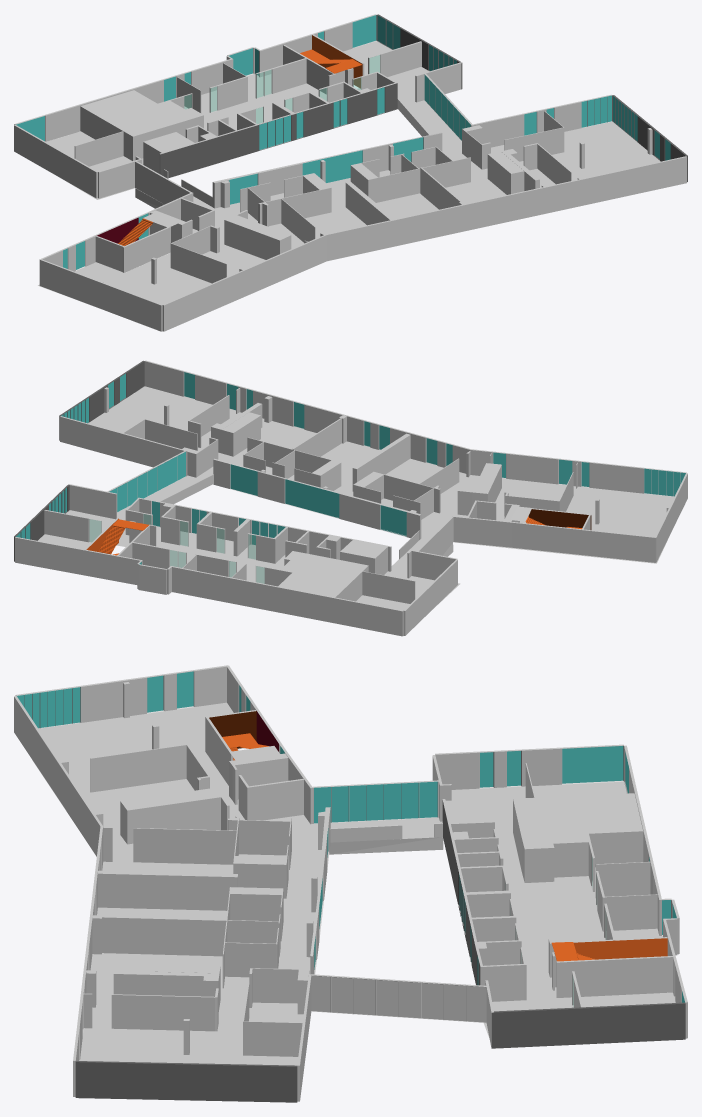
File: 2ndFloor.FBX
The picture shows the model from 3 angles, top to bottom: view 1: azimuth 30°, elevation 25°; view 2: azimuth 150°, elevation 25°; view 3: azimuth 270°, elevation 25°; orthographic projection. The views are drawn at different scales.
Visible parts, largest first — view 1: 2ndFloor, Object285, Object315, Object287, Object317, entranceWall001, Object319, Object329, Object311, Object327, Object337, Object263 (+33 smaller); view 2: 2ndFloor, Object285, Object315, Object329, entranceWall001, Object321, Object317, Object337, Object287, Object311, Object313, Object343 (+29 smaller); view 3: 2ndFloor, Object285, Object287, Object313, Object339, Object319, Object327, Object343, Object257, Object323, Object445, Object307 (+30 smaller).
Boxes of the visible parts, bbox=[...] form: 2ndFloor: bbox=[38, 41, 660, 331]; Object285: bbox=[143, 71, 397, 178]; Object315: bbox=[326, 156, 686, 260]; Object287: bbox=[80, 90, 203, 160]; Object317: bbox=[162, 234, 326, 331]; entranceWall001: bbox=[212, 132, 442, 208]; Object319: bbox=[39, 259, 162, 331]; Object329: bbox=[14, 58, 233, 141]; Object311: bbox=[470, 94, 612, 147]; Object327: bbox=[14, 125, 97, 198]; Object337: bbox=[259, 14, 376, 77]; Object263: bbox=[369, 157, 470, 202]; 2ndFloor: bbox=[38, 386, 674, 610]; Object285: bbox=[125, 497, 391, 575]; Object315: bbox=[144, 360, 470, 473]; Object329: bbox=[170, 566, 403, 636]; entranceWall001: bbox=[213, 458, 421, 539]; Object321: bbox=[452, 516, 655, 562]; Object317: bbox=[470, 449, 686, 496]; Object337: bbox=[15, 537, 142, 584]; Object287: bbox=[278, 551, 368, 601]; Object311: bbox=[60, 416, 187, 476]; Object313: bbox=[59, 360, 144, 440]; Object343: bbox=[107, 451, 185, 512]; 2ndFloor: bbox=[39, 702, 675, 1065]; Object285: bbox=[442, 799, 526, 1001]; Object287: bbox=[513, 793, 643, 882]; Object313: bbox=[75, 1061, 297, 1102]; Object339: bbox=[491, 1002, 685, 1048]; Object319: bbox=[15, 665, 228, 728]; Object327: bbox=[435, 744, 623, 789]; Object343: bbox=[308, 974, 488, 1022]; Object257: bbox=[98, 870, 237, 910]; Object323: bbox=[313, 780, 440, 823]; Object445: bbox=[102, 916, 226, 956]; Object307: bbox=[556, 956, 674, 997].
Bounding box in the file's own units: 6698 × 379 × 4741.
